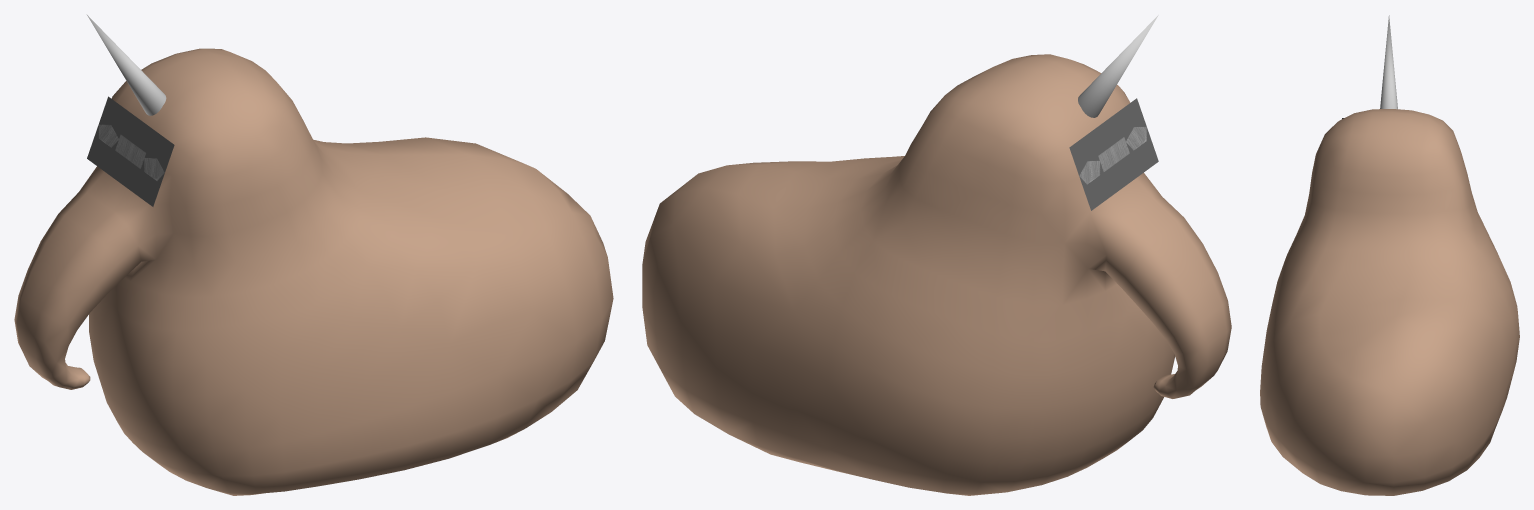
File: Beast02.fbx
3 views of the same model, side by side, from view 1: azimuth 30°, elevation 25°; view 2: azimuth 150°, elevation 25°; view 3: azimuth 270°, elevation 25° (orthographic). The views are drawn at different scales.
Visible parts, largest first — view 1: Beast, BeastEye, BeastHorn; view 2: Beast, BeastEye, BeastHorn; view 3: Beast, BeastHorn.
Part boxes in pixels (left/top/right/bottom): Beast: left=14, top=48, right=613, bottom=495; BeastEye: left=87, top=96, right=174, bottom=206; BeastHorn: left=86, top=14, right=166, bottom=115; Beast: left=642, top=54, right=1231, bottom=495; BeastEye: left=1069, top=98, right=1158, bottom=210; BeastHorn: left=1078, top=15, right=1158, bottom=117; Beast: left=1260, top=109, right=1519, bottom=495; BeastHorn: left=1380, top=15, right=1397, bottom=109.
Size of the model in its own units: 311 by 241 by 175.
